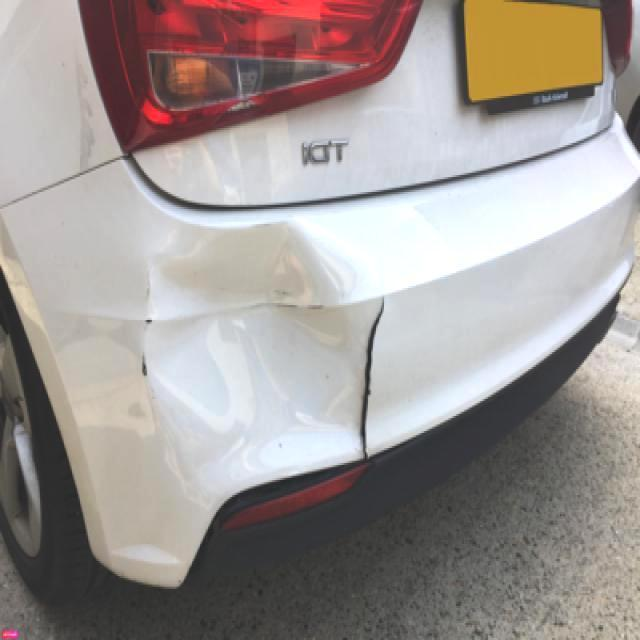minor: (71, 40, 120, 173)
moderate: (117, 197, 403, 523)
